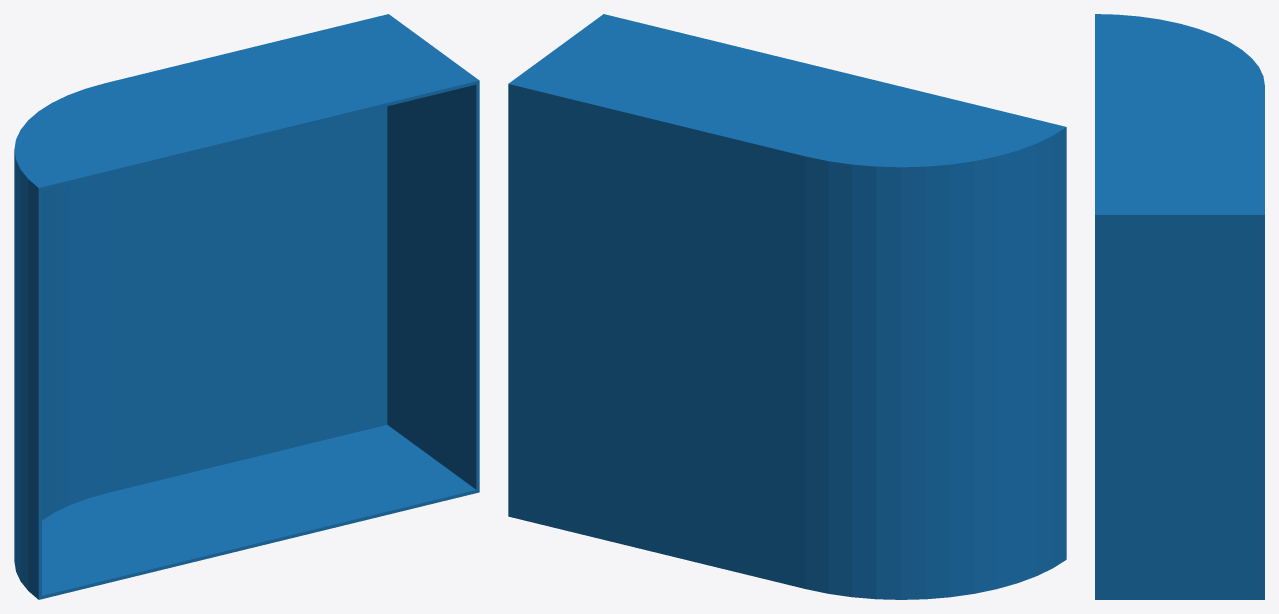
The model's file is basket_visual.obj.
3 renders of one model, left to right at view 1: azimuth 30°, elevation 25°; view 2: azimuth 150°, elevation 25°; view 3: azimuth 270°, elevation 25°, orthographic. The views are drawn at different scales.
Parts seen in each view (by area): view 1: basket_visual; view 2: basket_visual; view 3: basket_visual.
Part boxes in pixels (x1,y1,x2,y2): basket_visual: [14, 14, 479, 599]; basket_visual: [508, 14, 1066, 599]; basket_visual: [1095, 14, 1264, 599].
Size of the model in its own units: 0.28 by 0.25 by 0.1.
